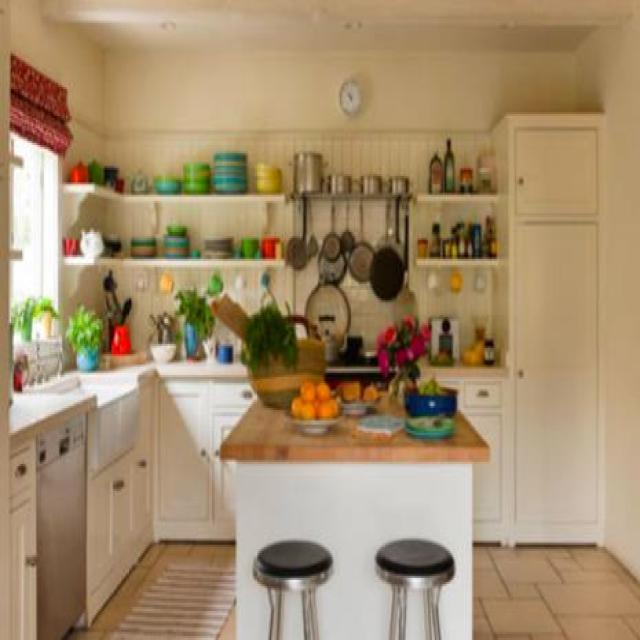dishwasher: (34, 410, 86, 638)
